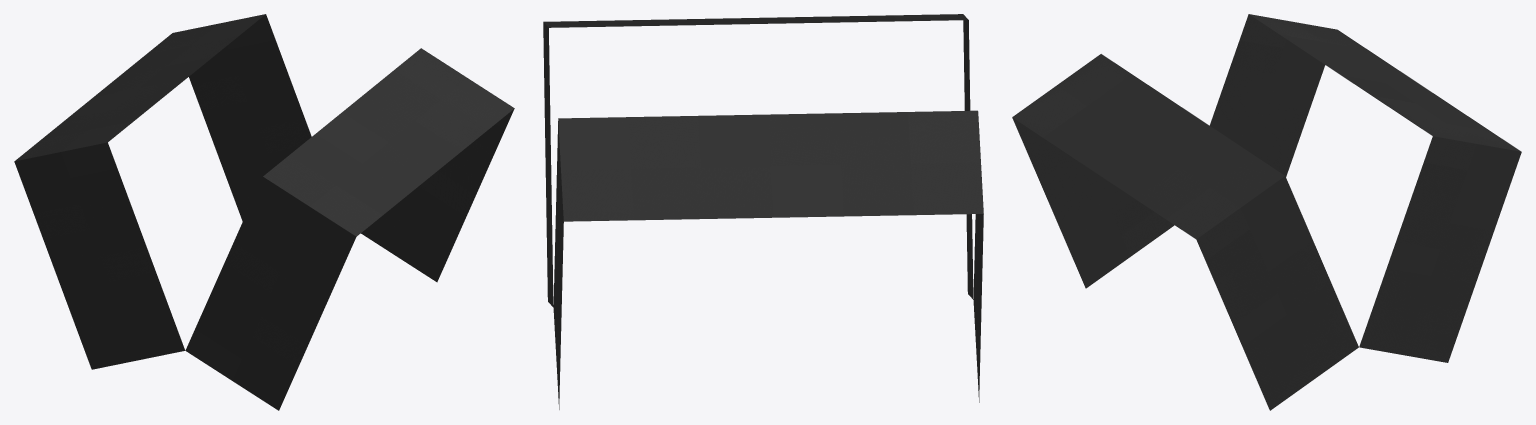
The model's file is CapCain.obj.
3 views of the same model, side by side, from view 1: azimuth 30°, elevation 25°; view 2: azimuth 150°, elevation 25°; view 3: azimuth 270°, elevation 25° (orthographic). The views are drawn at different scales.
Parts seen in each view (by area): view 1: cube; view 2: cube; view 3: cube.
Boxes of the visible parts, bbox=[...] form: cube: bbox=[14, 14, 514, 410]; cube: bbox=[543, 14, 983, 409]; cube: bbox=[1012, 14, 1521, 410].
Bounding box in the file's own units: 0.5432 × 0.2788 × 0.5577.
